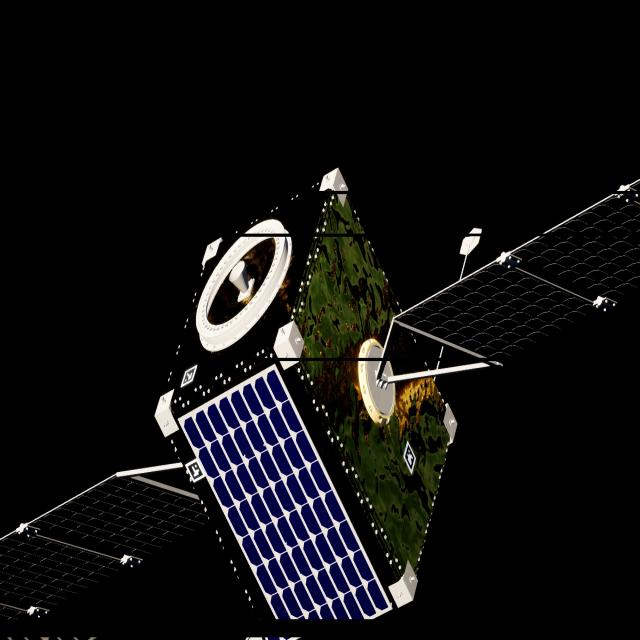satellite: (0, 172, 640, 639)
